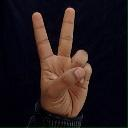hand: (31, 7, 92, 118)
